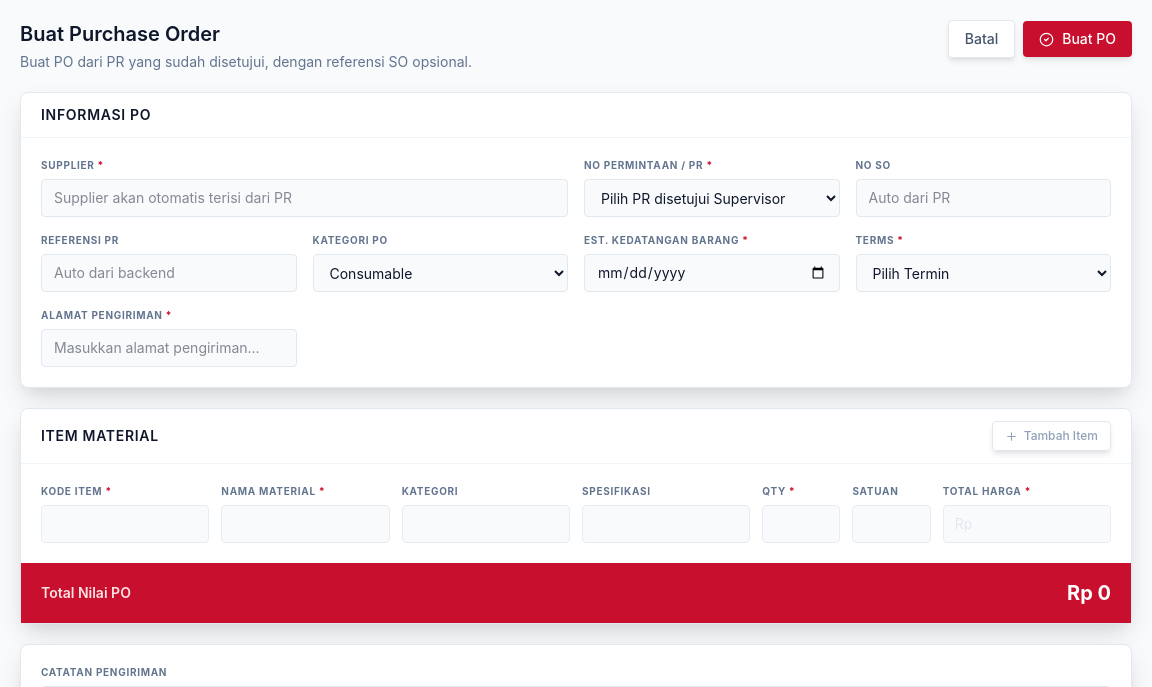
CreatePurchaseOrderPage › maps material size to specification (spec) when selecting a PR
// Select the PR from the dropdown
Select "PR-2026-001 - Non-project" in the dropdown below "No Permintaan / PR" at (712, 198), box x1=584 y1=179 x2=840 y2=217
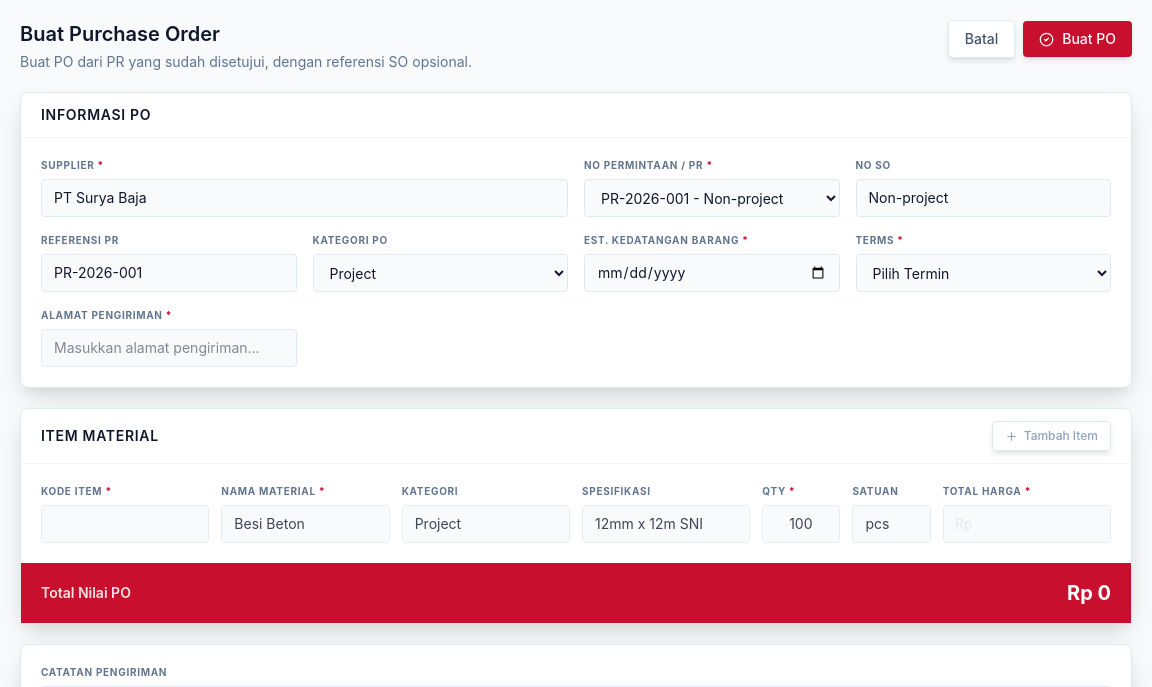
Check: the field showing "12mm x 12m SNI" below "Spesifikasi" is shown, box x1=582 y1=505 x2=750 y2=543
